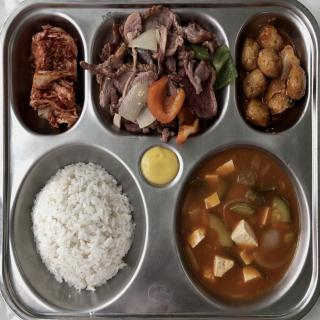Nasi: (28, 164, 136, 292)
